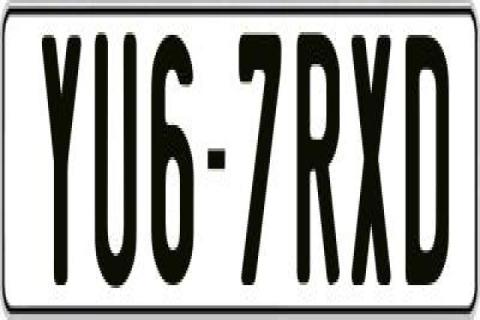0: (238, 26, 284, 282), (152, 26, 194, 276)
D: (402, 29, 450, 279)
R: (296, 27, 342, 280)
U: (92, 26, 134, 288)
X: (348, 29, 394, 291)
Y: (40, 35, 82, 297)
